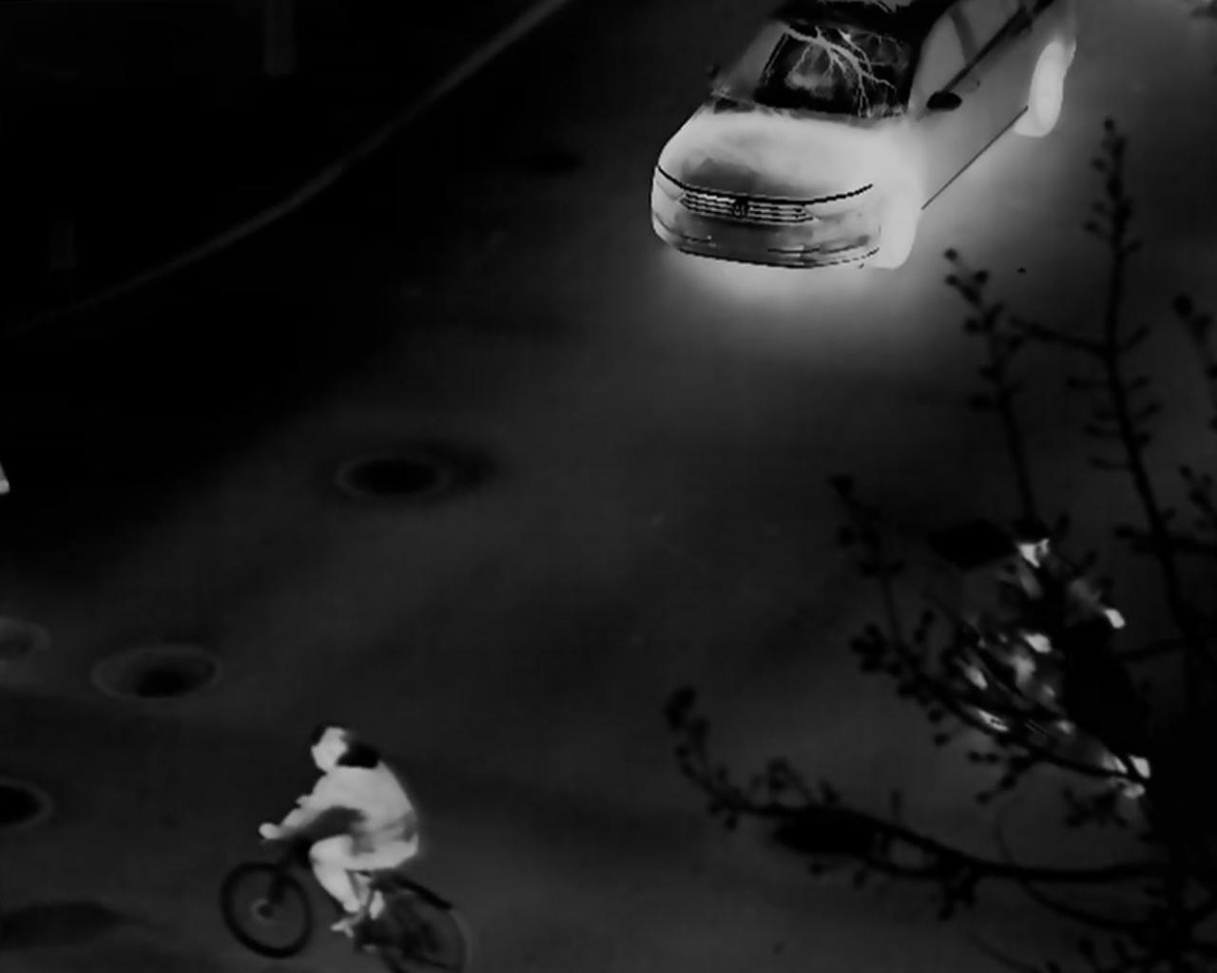person: (258, 725, 423, 936)
